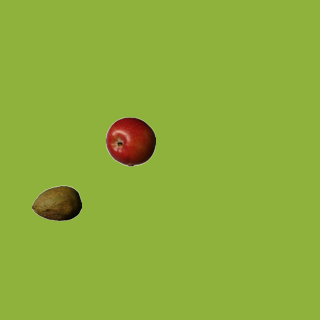Apple Braeburn: (105, 116, 155, 166)
Papaya: (31, 178, 81, 228)
